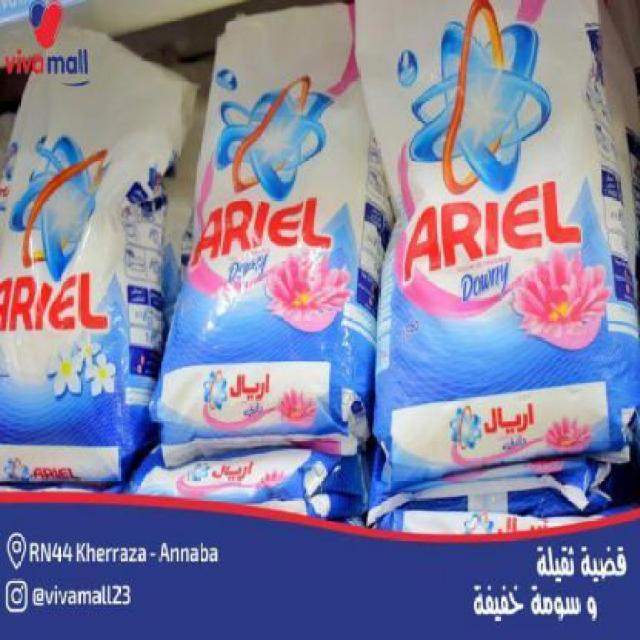Detergent: (354, 0, 629, 483), (158, 16, 376, 442), (0, 4, 165, 482)
